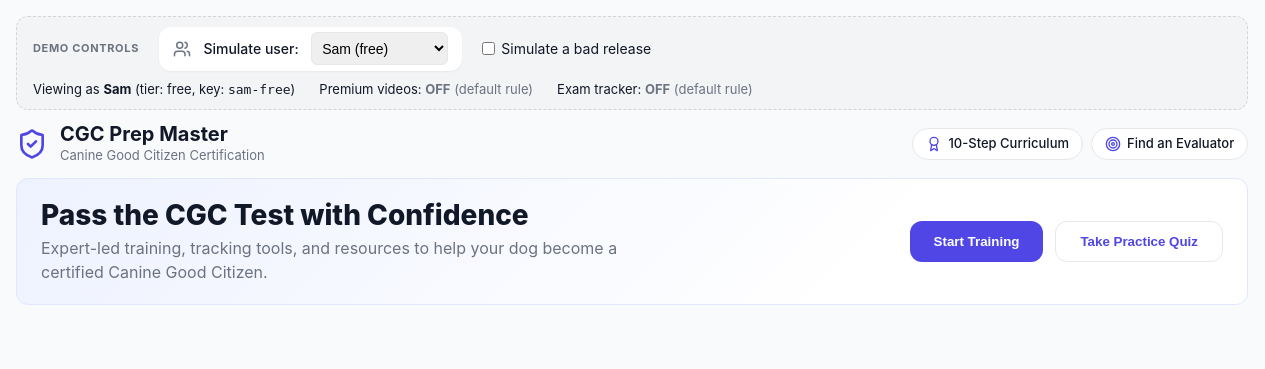
it: context and metric › does not announce a persona switch as a live flag change
Step 1. Select "Maya (beta)" in the dropdown labelled "Simulate user:" → {"x": 379, "y": 49}, box [311, 32, 448, 65]
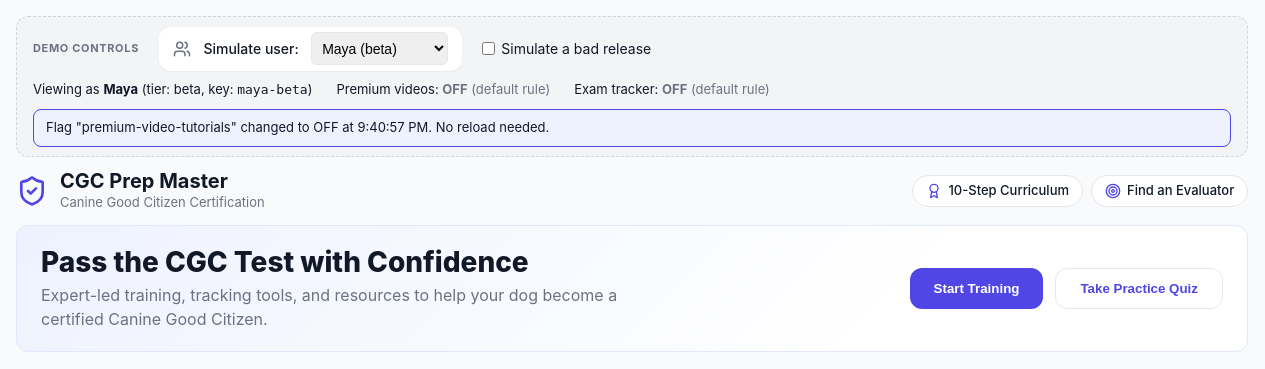
Result: the message shows "changed to OFF" at [46, 119, 549, 135]
